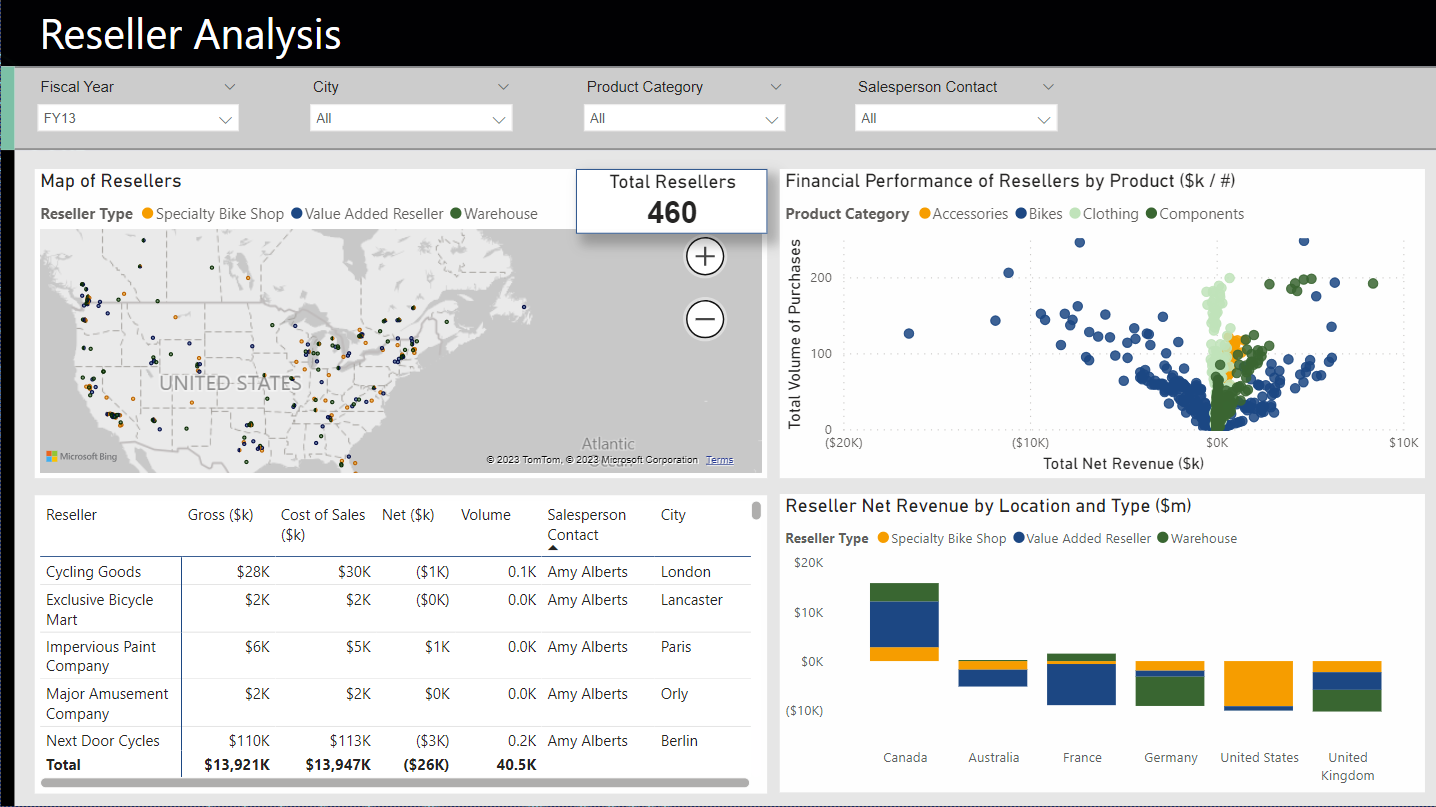

Layout of this report page (visuals, bound fields, positions):
{"tool":"powerbi","page":{"name":"Reseller Analysis","canvas":[1280,720],"ordinal":3},"visuals":[{"type":"shape","box":[0,134.3,1280,586],"z":0},{"type":"textbox","box":[0,0,1280,60],"z":1000},{"type":"shape","box":[0,60,1280,74],"z":2000},{"type":"shape","box":[0,134,12,586],"z":3000},{"type":"map","title":"Map of Resellers","fields":{"Category":["Reseller sales data v5b.City"],"Series":["Reseller sales data v5b.Reseller Type"]},"box":[30.2,151.8,652.2,275.5],"z":4000},{"type":"slicer","fields":{"Values":["Reseller sales data v5b.Fiscal Year"]},"box":[22.4,66.2,199.5,53.5],"z":5000},{"type":"lineStackedColumnComboChart","title":"Reseller Net Revenue by Location and Type ($m)","fields":{"Category":["Reseller sales data v5b.Country"],"Y":["Reseller sales data v5b.Net Revenue"],"Series":["Reseller sales data v5b.Reseller Type"]},"box":[693,440.9,574.3,265.7],"z":6000},{"type":"slicer","fields":{"Values":["Reseller sales data v5b.City"]},"box":[264.8,66.2,200.5,54.5],"z":7000},{"type":"card","title":"Total Resellers","fields":{"Values":["Reseller sales data v5b.Reseller Name"]},"box":[511.6,151.3,170.5,57.8],"z":8000},{"type":"pivotTable","fields":{"Values":["Reseller sales data v5b.Gross Revenue","Reseller sales data v5b.Cost of Sales","Reseller sales data v5b.Net Revenue","Reseller sales data v5b.Volume","Reseller sales data v5b.Salesperson Contact","Reseller sales data v5b.City"],"Rows":["Reseller sales data v5b.Reseller Name"]},"box":[30.3,441.4,651.8,265.4],"z":9000},{"type":"slicer","fields":{"Values":["Reseller sales data v5b.Product Category"]},"box":[508.1,66.2,199.5,53.5],"z":10000},{"type":"slicer","fields":{"Values":["Reseller sales data v5b.Salesperson Contact"]},"box":[750.5,66.2,200.5,54.5],"z":11000},{"type":"scatterChart","title":"Financial Performance of Resellers by Product  ($k / #)","fields":{"Category":["Reseller sales data v5b.Reseller Name"],"X":["Reseller sales data v5b.Net Revenue"],"Y":["Reseller sales data v5b.Volume"],"Series":["Reseller sales data v5b.Product Category"]},"box":[693,151.8,574.3,275.5],"z":12000},{"type":"shape","box":[0,60.5,12.4,74.3],"z":13000}]}

Visuals, with their boxes in screenshot pixels (x1, y1, x2, y2), scaled from the page's 1280x720 canvas onto the 1436x807 screenshot:
shape: <bbox>0, 151, 1435, 806</bbox>
textbox: <bbox>0, 0, 1435, 67</bbox>
shape: <bbox>0, 67, 1435, 150</bbox>
shape: <bbox>0, 150, 13, 806</bbox>
"Map of Resellers" map: <bbox>34, 170, 766, 479</bbox>
slicer - Reseller sales data v5b.Fiscal Year: <bbox>25, 74, 249, 134</bbox>
"Reseller Net Revenue by Location and Type ($m)" lineStackedColumnComboChart: <bbox>777, 494, 1422, 792</bbox>
slicer - Reseller sales data v5b.City: <bbox>297, 74, 522, 135</bbox>
"Total Resellers" card: <bbox>574, 170, 765, 234</bbox>
pivotTable - Reseller sales data v5b.Gross Revenue x Reseller sales data v5b.Cost of Sales: <bbox>34, 495, 765, 792</bbox>
slicer - Reseller sales data v5b.Product Category: <bbox>570, 74, 794, 134</bbox>
slicer - Reseller sales data v5b.Salesperson Contact: <bbox>842, 74, 1067, 135</bbox>
"Financial Performance of Resellers by Product  ($k / #)" scatterChart: <bbox>777, 170, 1422, 479</bbox>
shape: <bbox>0, 68, 14, 151</bbox>
